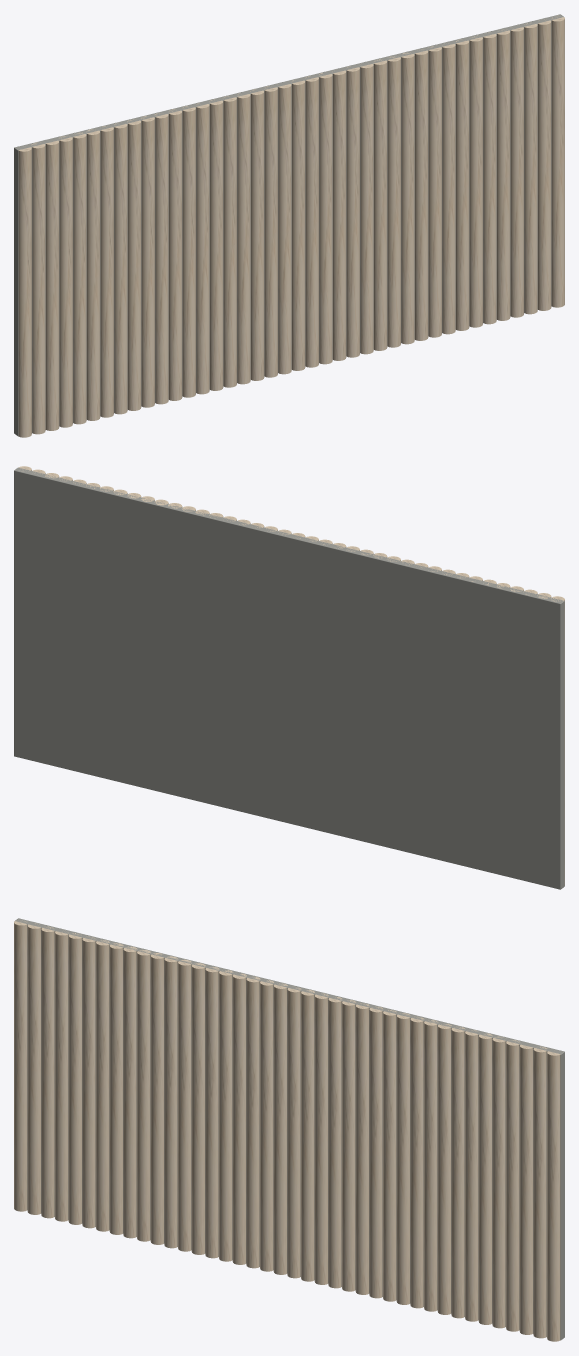
File: backsplash-fluted.glb
The picture shows the model from 3 angles, top to bottom: view 1: azimuth 30°, elevation 25°; view 2: azimuth 150°, elevation 25°; view 3: azimuth 330°, elevation 25°; orthographic projection.
Visible parts, largest first — view 1: catalog_surface_RealismUV; view 2: catalog_surface_RealismUV; view 3: catalog_surface_RealismUV.
Boxes of the visible parts, x1,y1,x2,y2 form: catalog_surface_RealismUV: (14, 14, 564, 437); catalog_surface_RealismUV: (14, 466, 564, 889); catalog_surface_RealismUV: (14, 918, 564, 1341).
Size of the model in its own units: 1.2 by 0.6 by 0.028.
2 materials, 1 textured.
